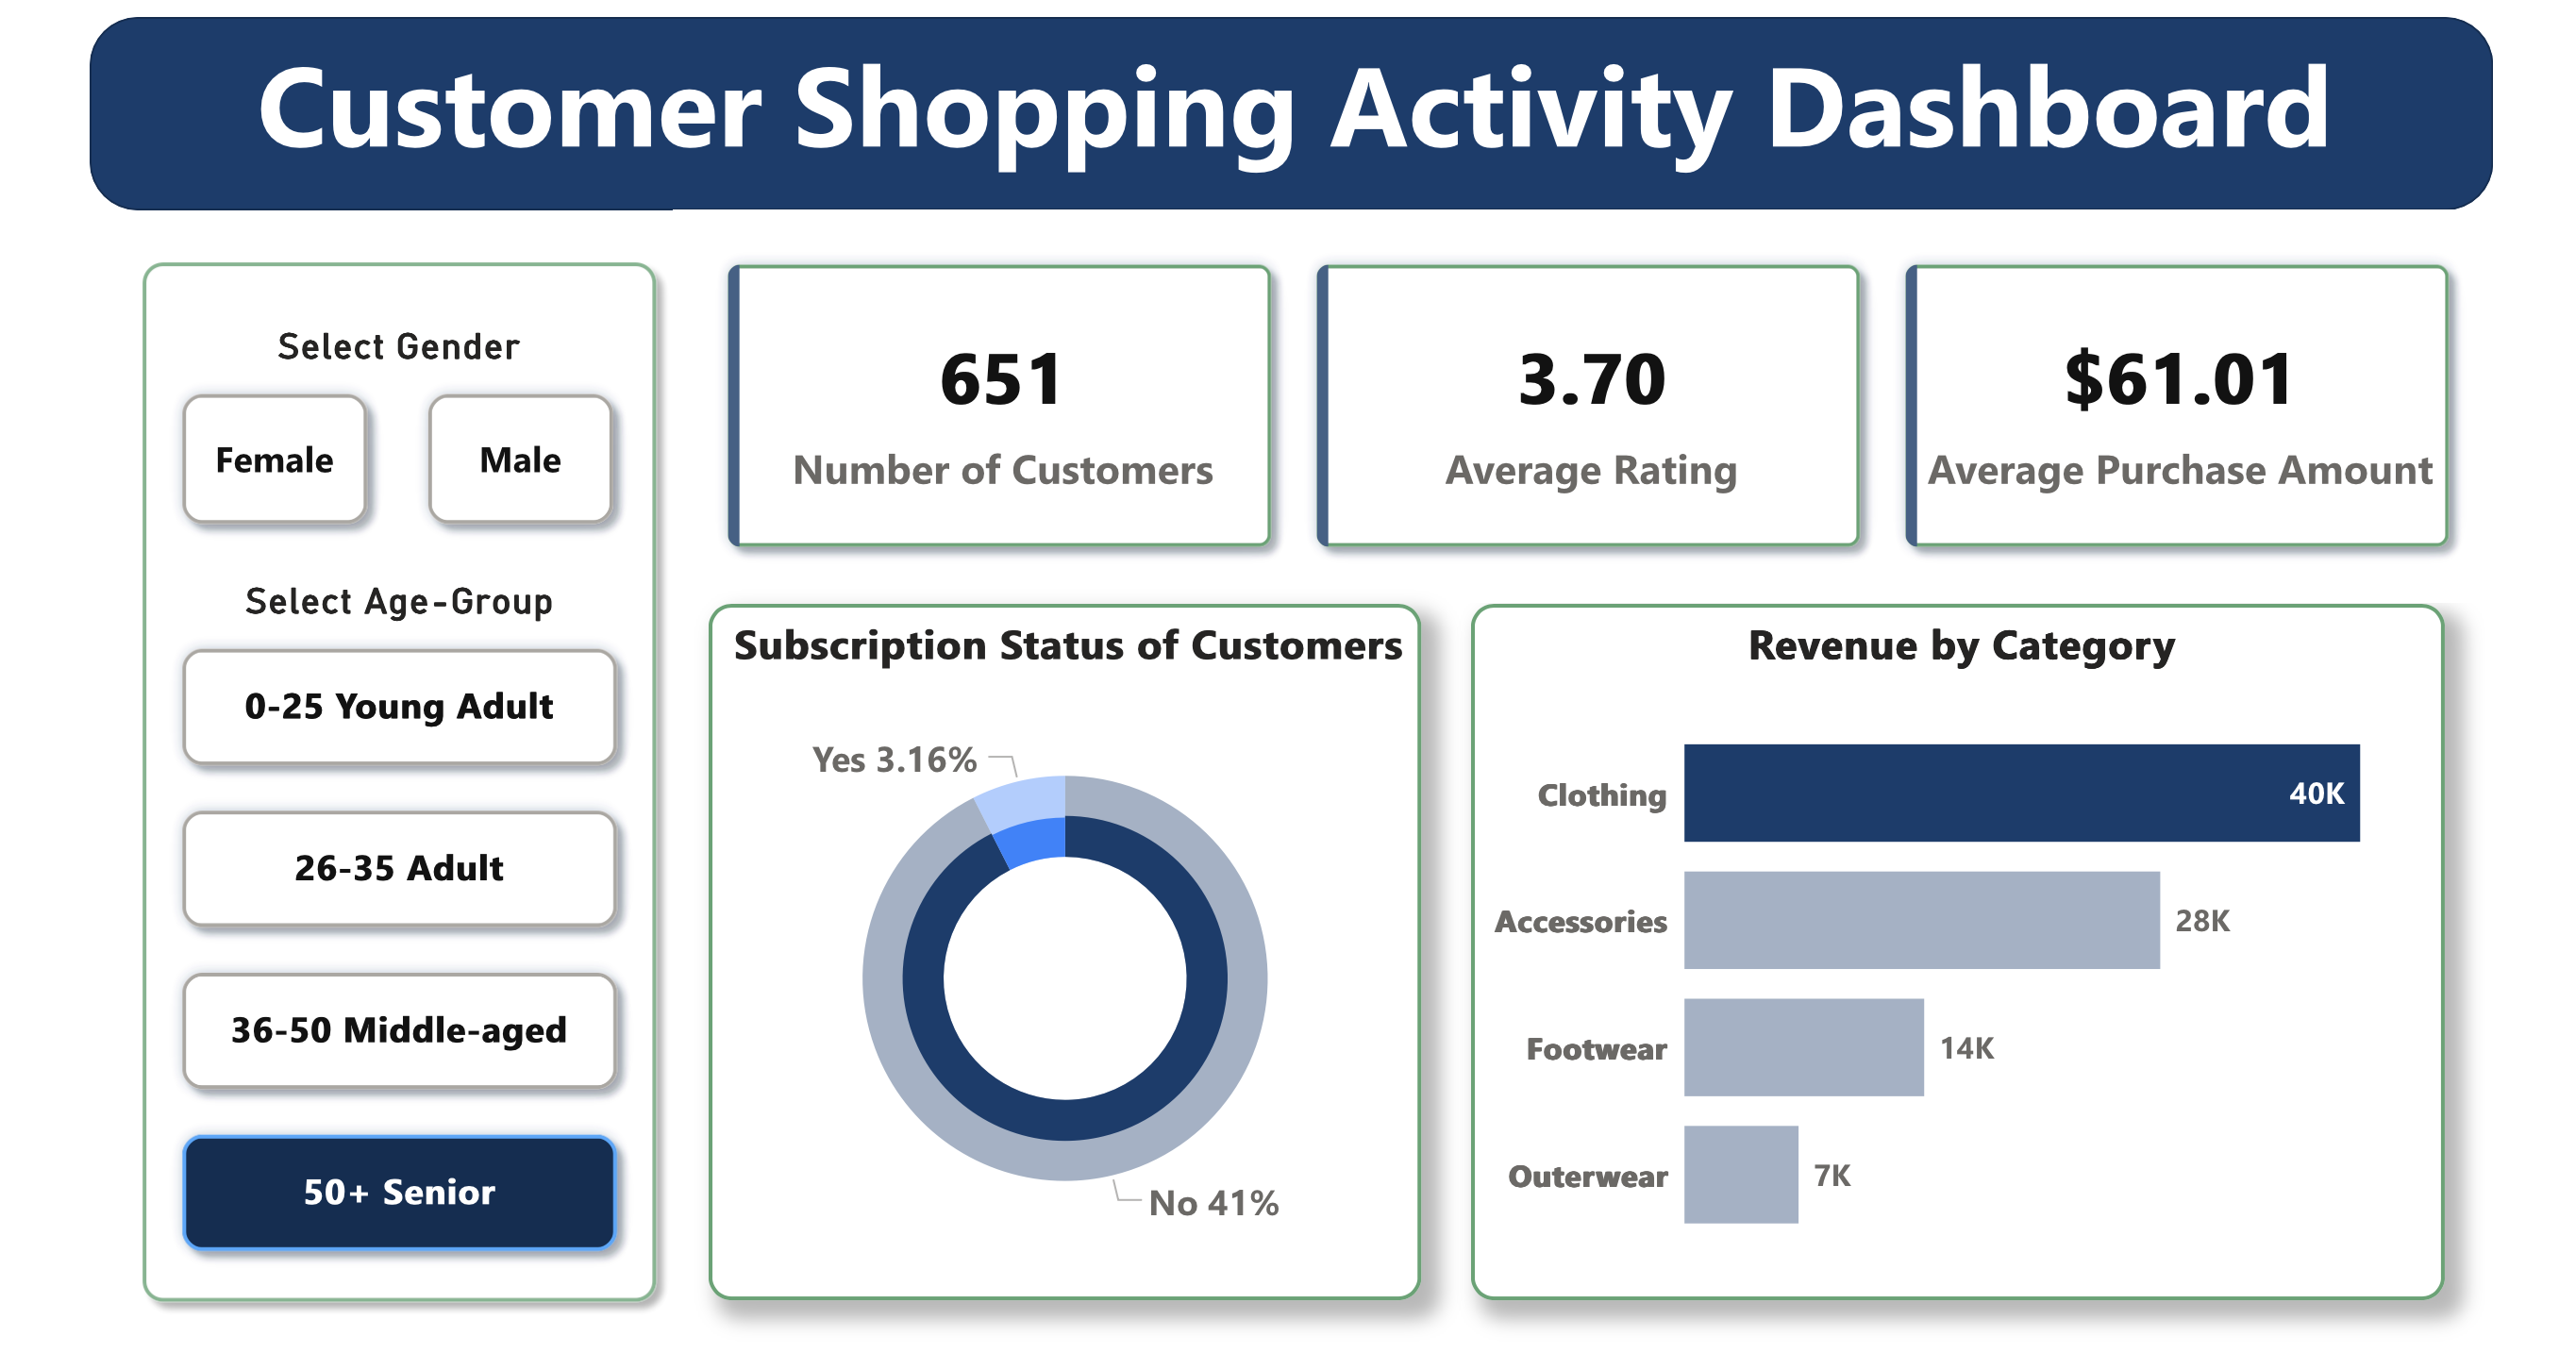

This screenshot's page, from the dashboard's own definition file:
{"tool":"powerbi","page":{"name":"Page 1","canvas":[1280,720],"ordinal":0},"visuals":[{"type":"shape","box":[10.1,10.1,1269.9,101.1],"z":0},{"type":"textbox","box":[28.9,10.1,1228,91],"z":1000},{"type":"clusteredBarChart","title":"Revenue by Category","fields":{"Category":["customer_cleaned_data.category"],"Y":["Sum(customer_cleaned_data.purchase_amount)"]},"box":[735.3,317.8,511.4,365.5],"z":2000},{"type":"cardVisual","fields":{"Data":["customer_cleaned_data.Number of Customers","customer_cleaned_data.Average Rating","customer_cleaned_data.Average Purchase Amount"]},"box":[316.4,111.2,963.6,206.6],"z":3000},{"type":"donutChart","title":"Subscription Status of Customers","fields":{"Category":["customer_cleaned_data.subscription_status"],"Y":["Sum(customer_cleaned_data.customer_id)"]},"box":[335.2,317.8,374.2,365.5],"z":4000},{"type":"shape","box":[28.9,130,287.5,563.4],"z":5000},{"type":"advancedSlicerVisual","title":"Select Age-Group","fields":{"Values":["customer_cleaned_data.age_group"]},"box":[41.4,306.8,262,368.4],"z":6000},{"type":"advancedSlicerVisual","title":"Gender","fields":{"Values":["customer_cleaned_data.gender"]},"box":[41.9,173.4,261.5,119.9],"z":6001}]}

Visuals, with their boxes in screenshot pixels (x1, y1, x2, y2):
shape: [66,12,2510,208]
textbox: [103,12,2466,188]
"Revenue by Category" clusteredBarChart: [1462,605,2446,1308]
cardVisual - customer_cleaned_data.Number of Customers x customer_cleaned_data.Average Rating: [656,208,2510,605]
"Subscription Status of Customers" donutChart: [692,605,1412,1308]
shape: [103,243,656,1328]
"Select Age-Group" advancedSlicerVisual: [126,584,630,1293]
"Gender" advancedSlicerVisual: [127,327,630,558]
